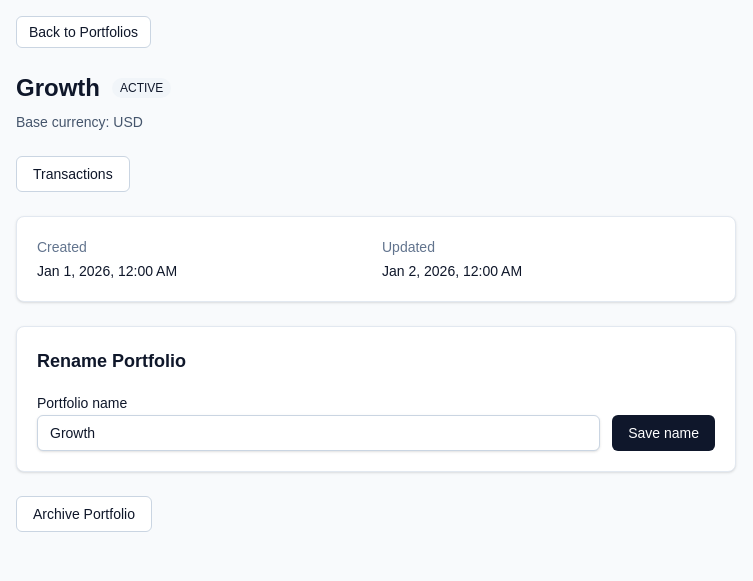
Test: PortfolioDetailScreen › shows rename conflicts and refetches after an archived-state race
Replace the text in the field labelled "Portfolio name" with "Duplicate" at (319, 433), box [37,415,600,451]
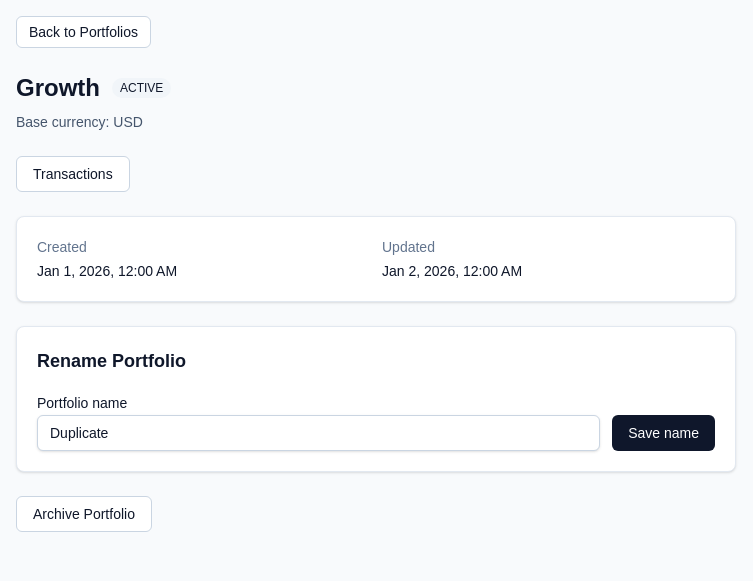
Click the button "Save name".
click(664, 433)  # box [612,415,715,451]
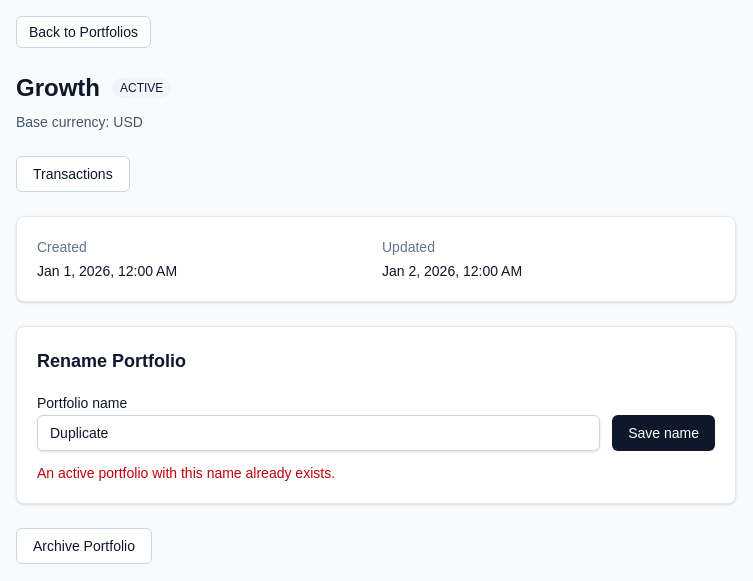
Result: the text "An active portfolio with this name already exists." is shown at [37,465,335,481]
Replace the text in the field labelled "Portfolio name" with "Archived race" at (319, 433), box [37,415,600,451]
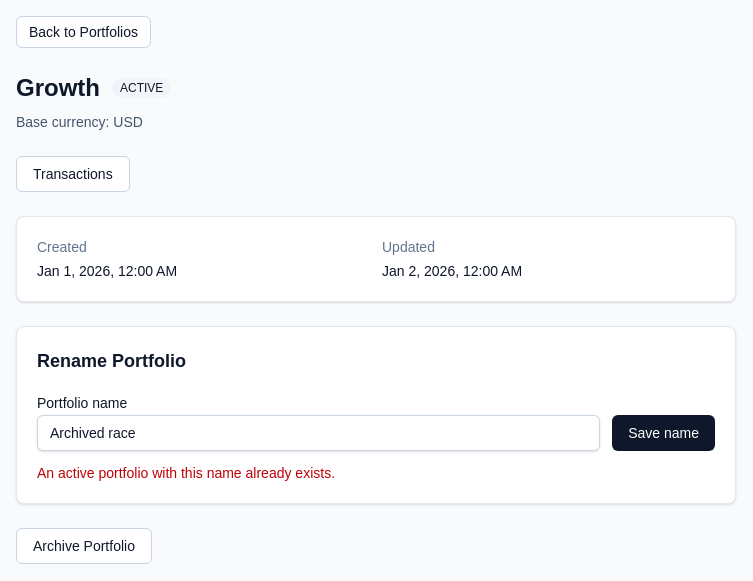
Click the button "Save name".
click(664, 433)  # box [612,415,715,451]
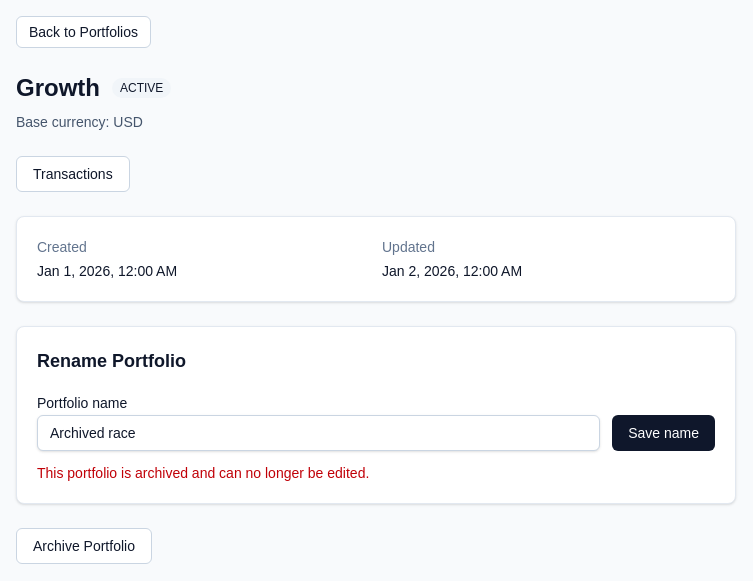
Result: the text "This portfolio is archived and can no longer be edited." is shown at [37,465,369,481]
